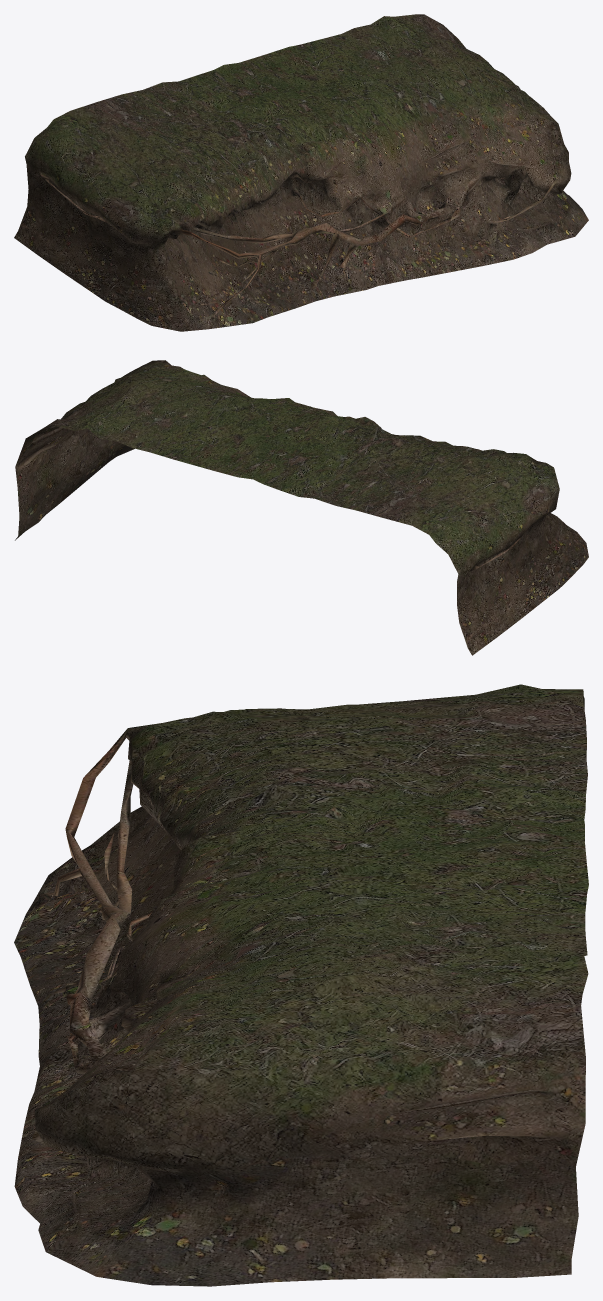
The model's file is ledge_root.glb.
The picture shows the model from 3 angles, top to bottom: view 1: azimuth 30°, elevation 25°; view 2: azimuth 150°, elevation 25°; view 3: azimuth 270°, elevation 25°; orthographic projection. The views are drawn at different scales.
Parts seen in each view (by area): view 1: ledgeRoot_S_Nordic_Forest_Ledge_Root_Large_xj1odjt_lod10_LOD; view 2: ledgeRoot_S_Nordic_Forest_Ledge_Root_Large_xj1odjt_lod10_LOD; view 3: ledgeRoot_S_Nordic_Forest_Ledge_Root_Large_xj1odjt_lod10_LOD.
Part boxes in pixels (x1,y1,x2,y2): ledgeRoot_S_Nordic_Forest_Ledge_Root_Large_xj1odjt_lod10_LOD: (14, 14, 588, 331); ledgeRoot_S_Nordic_Forest_Ledge_Root_Large_xj1odjt_lod10_LOD: (15, 360, 588, 655); ledgeRoot_S_Nordic_Forest_Ledge_Root_Large_xj1odjt_lod10_LOD: (14, 684, 588, 1286).
Bounding box in the file's own units: 12.11 × 3.29 × 6.86.
1 material, 1 textured.
